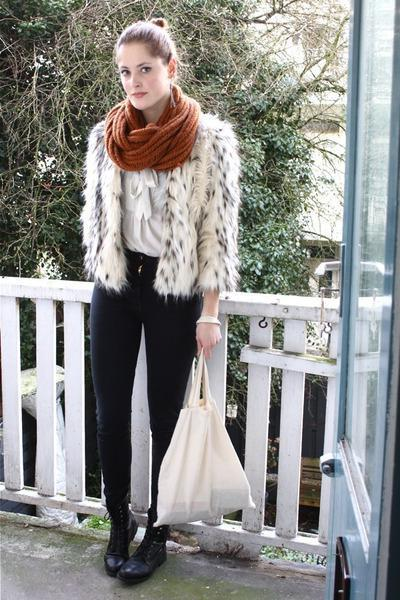coat: (66, 109, 248, 295)
short sleeve shirt: (112, 157, 194, 259)
trousers: (88, 254, 213, 542)
